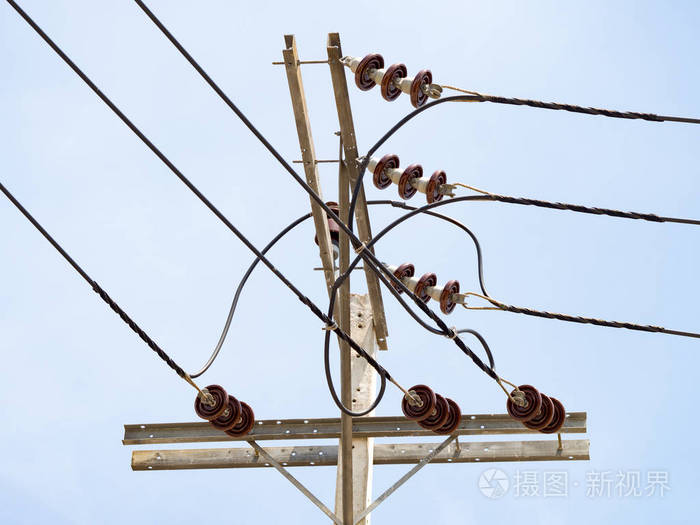insulator: (351, 51, 434, 110), (372, 154, 447, 208), (387, 261, 462, 315), (401, 382, 462, 438), (193, 387, 255, 438), (505, 384, 567, 434)
